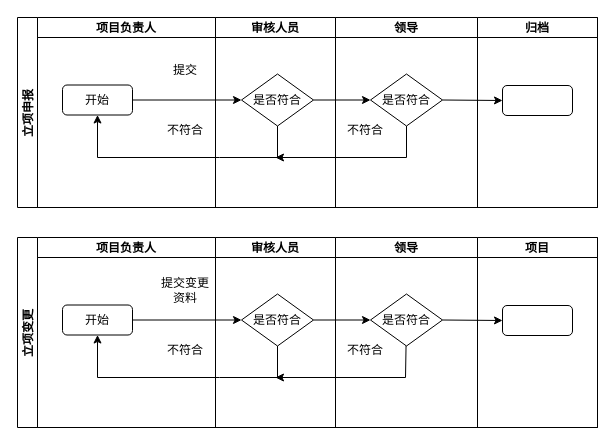
This 615x445 diagram has some shape labels left out. Each missing label, with the centre of its shape:
变更结束: (537,320)
结束: (537,100)
